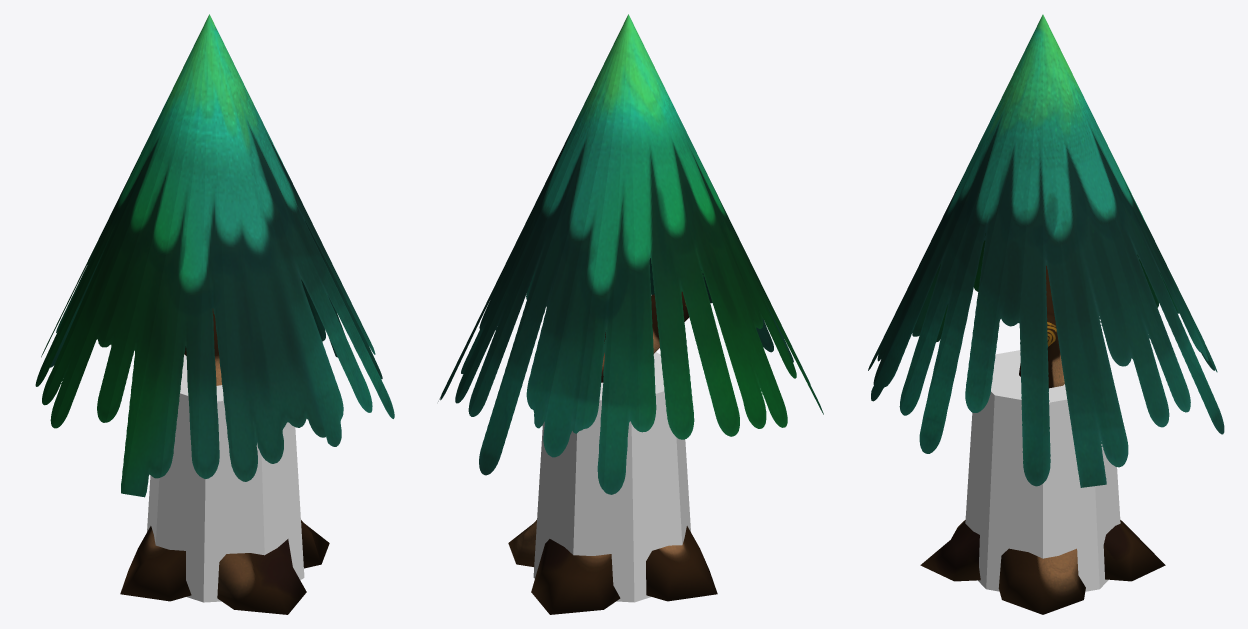
File: pinheiro_broto.glb
3 renders of one model, left to right at view 1: azimuth 30°, elevation 25°; view 2: azimuth 150°, elevation 25°; view 3: azimuth 270°, elevation 25°, orthographic. The views are drawn at different scales.
Parts seen in each view (by area): view 1: Newborn.001_6, Colisao.010; view 2: Newborn.001_6, Colisao.010; view 3: Newborn.001_6, Colisao.010.
Boxes of the visible parts, left/top/right/bottom form: Newborn.001_6: left=35, top=14, right=394, bottom=614; Colisao.010: left=147, top=354, right=304, bottom=602; Newborn.001_6: left=438, top=14, right=823, bottom=614; Colisao.010: left=533, top=352, right=690, bottom=602; Newborn.001_6: left=868, top=14, right=1224, bottom=614; Colisao.010: left=965, top=350, right=1120, bottom=591.
Bounding box in the file's own units: 0.6715 × 1.06 × 0.6715.
Materials: 1 (1 with a texture image).
